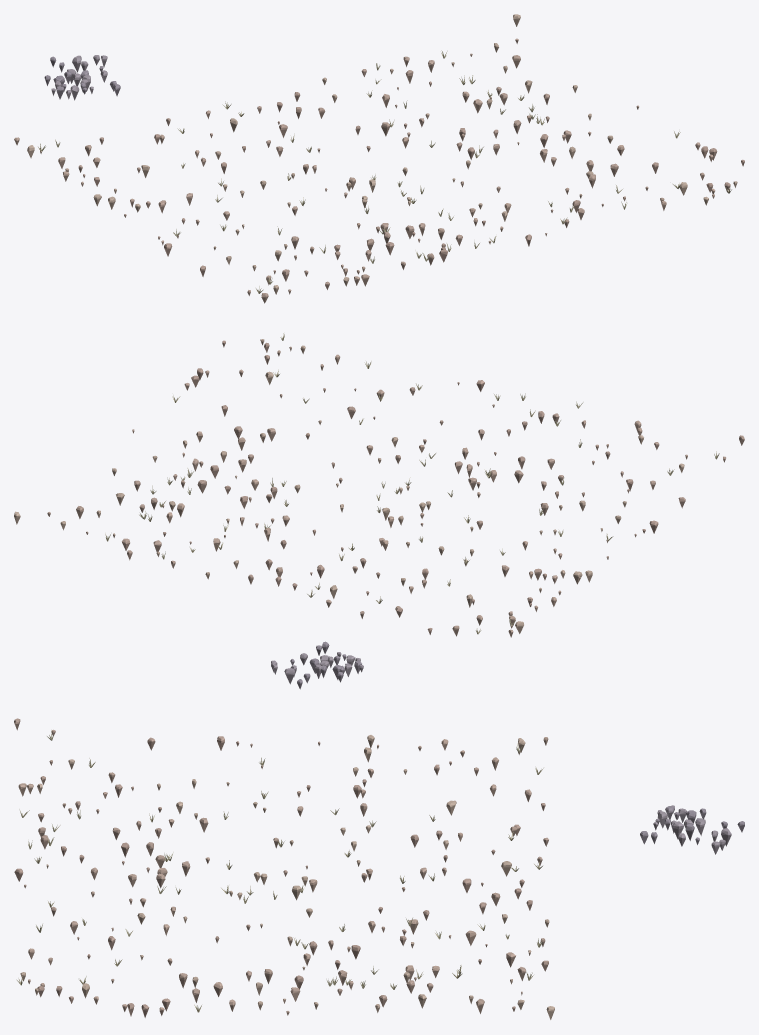
Rendered from decor.glb.
3 views of the same model, one above another, from view 1: azimuth 30°, elevation 25°; view 2: azimuth 150°, elevation 25°; view 3: azimuth 270°, elevation 25° (orthographic). The views are drawn at different scales.
Parts seen in each view (by area): view 1: decor; view 2: decor; view 3: decor.
Boxes of the visible parts, bbox=[...] form: decor: bbox=[14, 14, 744, 303]; decor: bbox=[14, 333, 744, 689]; decor: bbox=[14, 718, 744, 1019].
Size of the model in its own units: 52.27 by 4.89 by 58.73.
